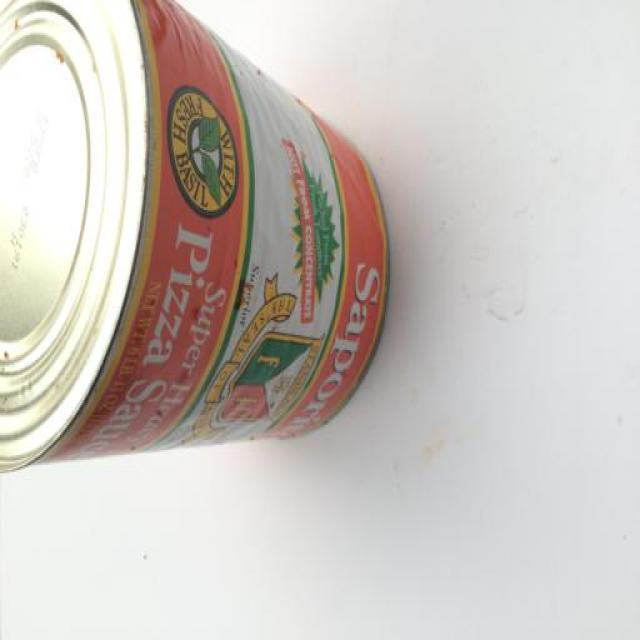metal-can: (0, 0, 391, 475)
